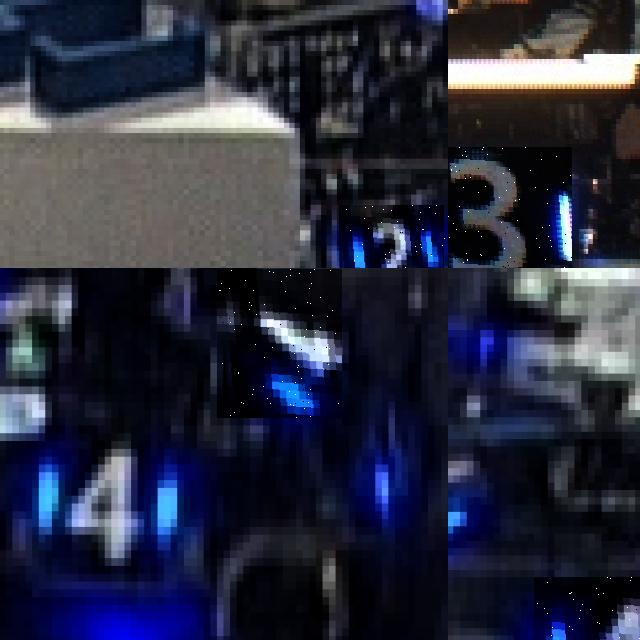B2: (339, 204, 445, 268)
B3: (448, 146, 572, 268)
B4: (15, 425, 194, 566), (217, 269, 342, 418), (534, 577, 640, 640)
